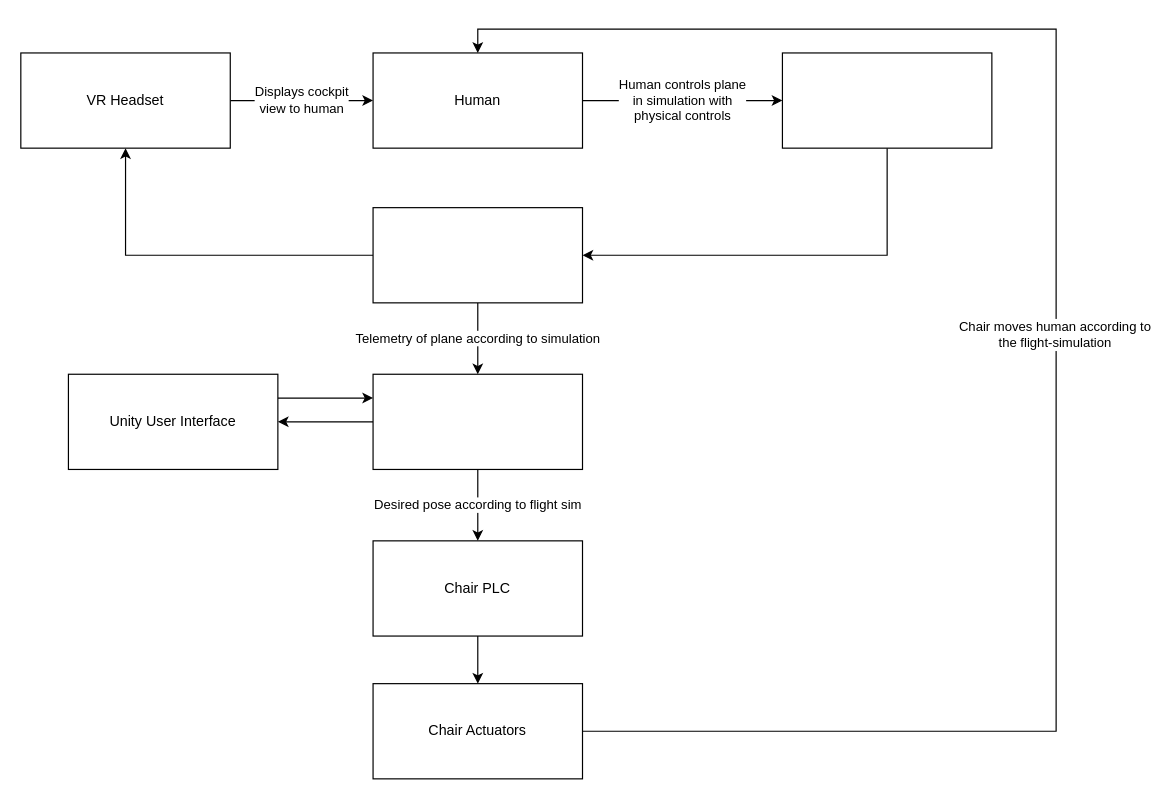
This 1171x800 diagram has some shape labels left out. Each missing label, with the centre of its shape:
"Flight Control Peripherals" goes at point (886, 100).
"Python controller client" goes at point (477, 421).
"SImulation" goes at point (477, 254).
